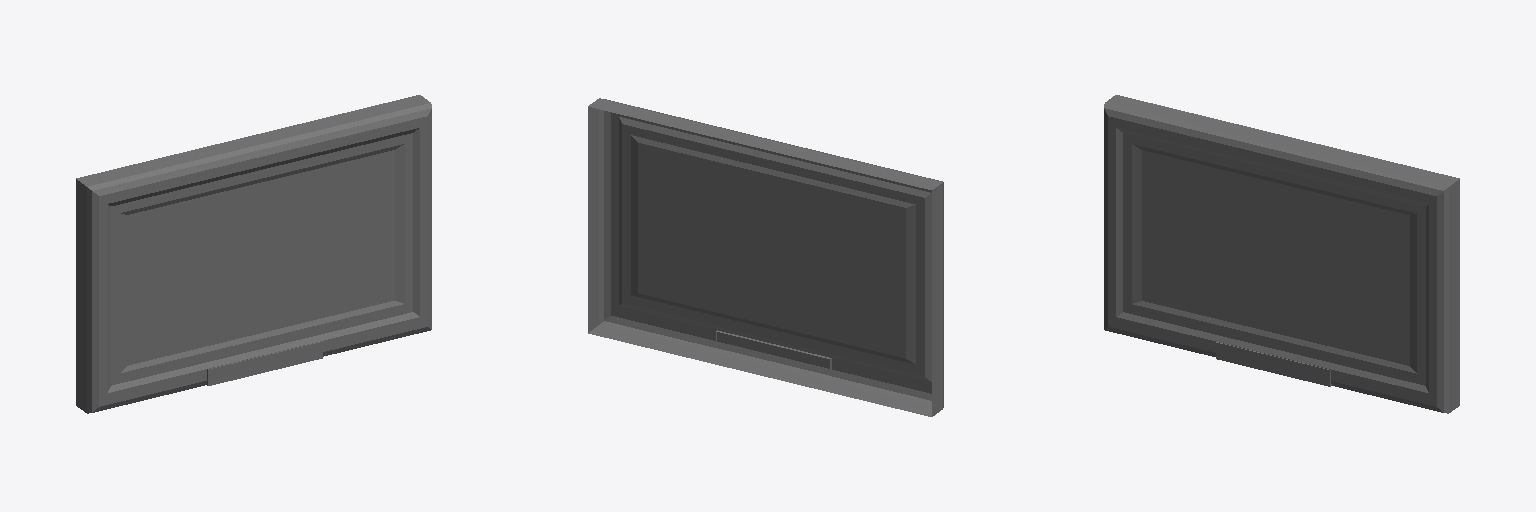
The model's file is thirdgenerationframe.obj.
3 renders of one model, left to right at view 1: azimuth 30°, elevation 25°; view 2: azimuth 150°, elevation 25°; view 3: azimuth 330°, elevation 25°, orthographic.
Visible parts, largest first — view 1: pCube11; view 2: pCube11; view 3: pCube11.
Part boxes in pixels (bbox=[...]): pCube11: bbox=[76, 95, 431, 413]; pCube11: bbox=[588, 98, 943, 416]; pCube11: bbox=[1104, 95, 1459, 413].
Bounding box in the file's own units: 253 × 159 × 20.74.